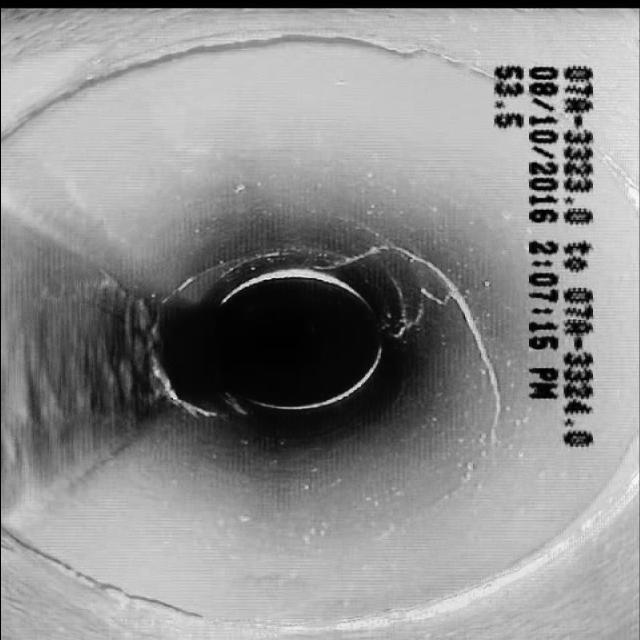Crack: (370, 235, 491, 335)
